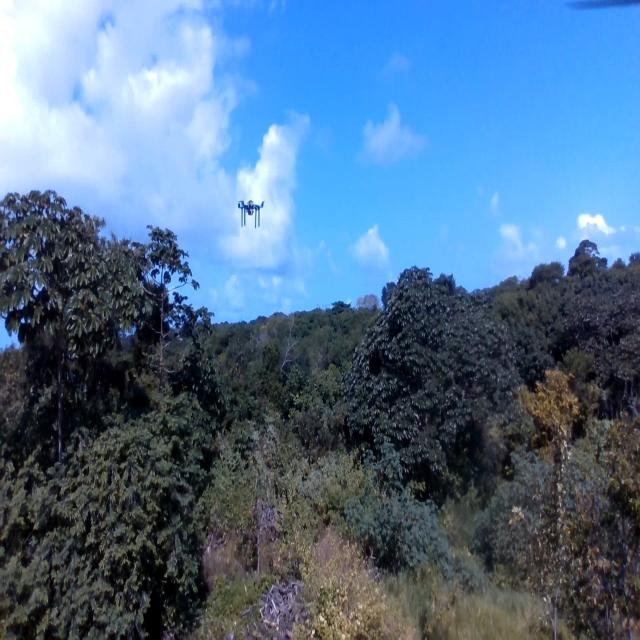-uav-: (233, 185, 271, 238)
